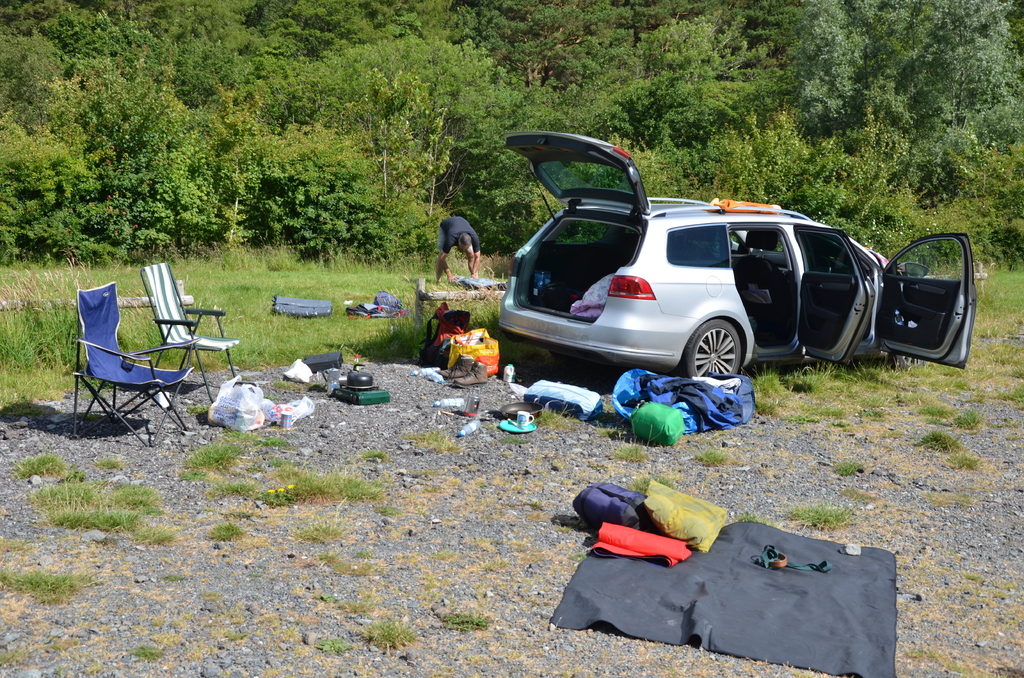Tree: (0, 0, 1023, 258)
